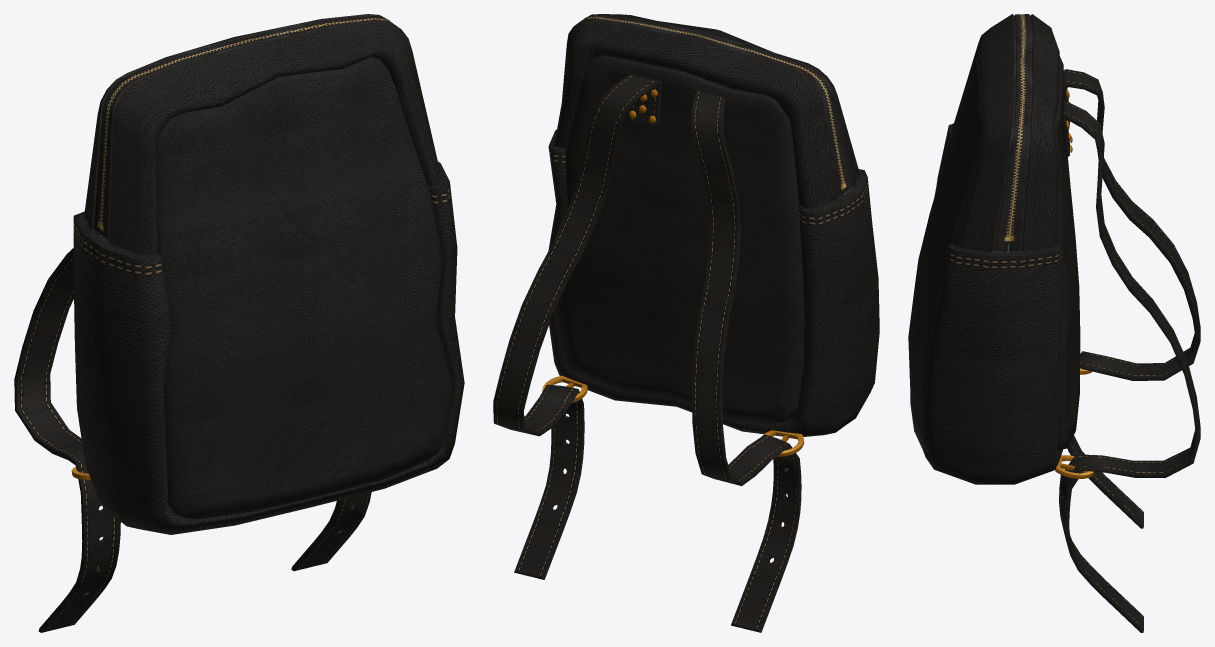
Rendered from PlainBackpack.fbx.
3 renders of one model, left to right at view 1: azimuth 30°, elevation 25°; view 2: azimuth 150°, elevation 25°; view 3: azimuth 270°, elevation 25°, orthographic. The views are drawn at different scales.
Parts seen in each view (by area): view 1: PlainBackpack; view 2: PlainBackpack; view 3: PlainBackpack.
Part boxes in pixels (x1,y1,x2,y2): PlainBackpack: (14,14,464,632); PlainBackpack: (493,14,879,632); PlainBackpack: (908,14,1200,632).
Size of the model in its own units: 24.67 by 41.89 by 21.51.
Materials: 1 (1 with a texture image).
